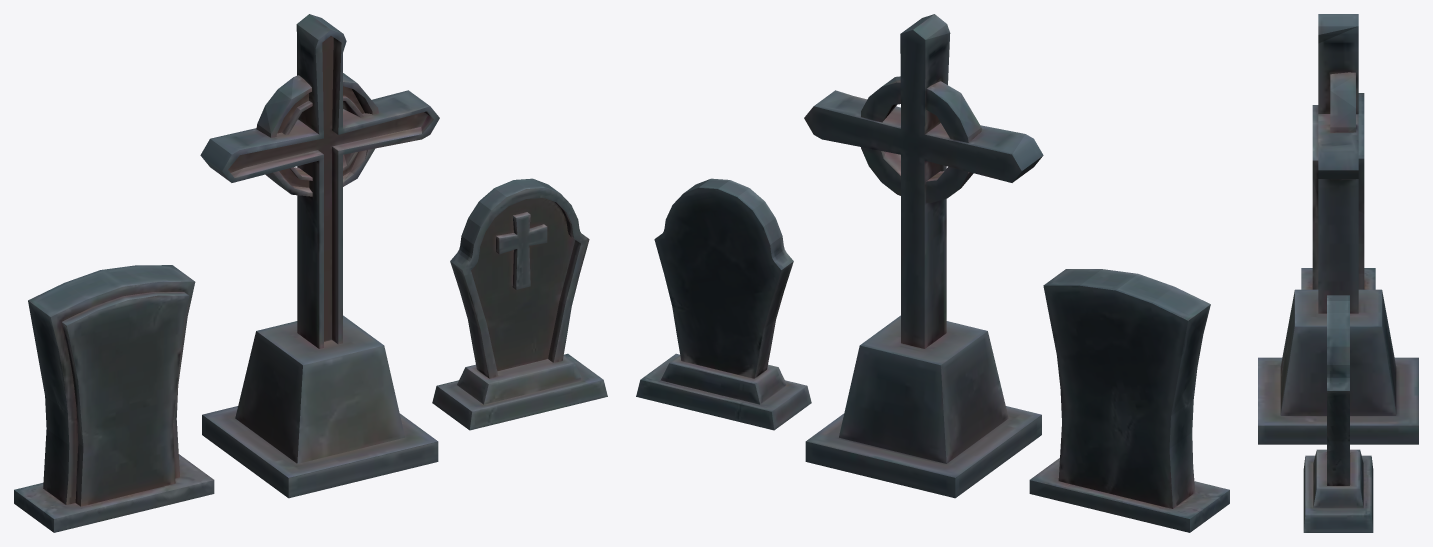
Rendered from lapidas.glb.
The picture shows the model from 3 angles, left to right: view 1: azimuth 30°, elevation 25°; view 2: azimuth 150°, elevation 25°; view 3: azimuth 270°, elevation 25°; orthographic projection. The views are drawn at different scales.
Visible parts, largest first — view 1: Box004, Box001, Box002, Gravestone_1, defaultMaterial (×2), Box005, Cylinder001; view 2: Box004, Box001, Box002, Gravestone_1, defaultMaterial, Cylinder001, Box005; view 3: Box001, Box002, defaultMaterial, Gravestone_1, Box004, Cylinder001, Box005.
Part boxes in pixels (x1,y1,x2,y2): Box004: (28,265,195,506); Box001: (202,315,438,498); Box002: (200,14,439,348); Gravestone_1: (450,178,589,378); defaultMaterial (×2): (432,212,607,430); Box005: (14,454,214,532); Cylinder001: (256,73,378,196); Box004: (1043,269,1210,508); Box001: (805,315,1041,498); Box002: (804,14,1043,348); Gravestone_1: (654,178,793,378); defaultMaterial: (636,353,811,430); Cylinder001: (861,76,981,202); Box005: (1029,458,1229,532); Box001: (1258,289,1418,444); Box002: (1318,14,1358,313); defaultMaterial: (1303,449,1373,532); Gravestone_1: (1327,295,1349,485); Box004: (1312,93,1364,289); Cylinder001: (1330,72,1355,179); Box005: (1301,268,1375,289).
Size of the model in its own units: 198 by 145 by 53.29.
3 materials, 3 textured.
